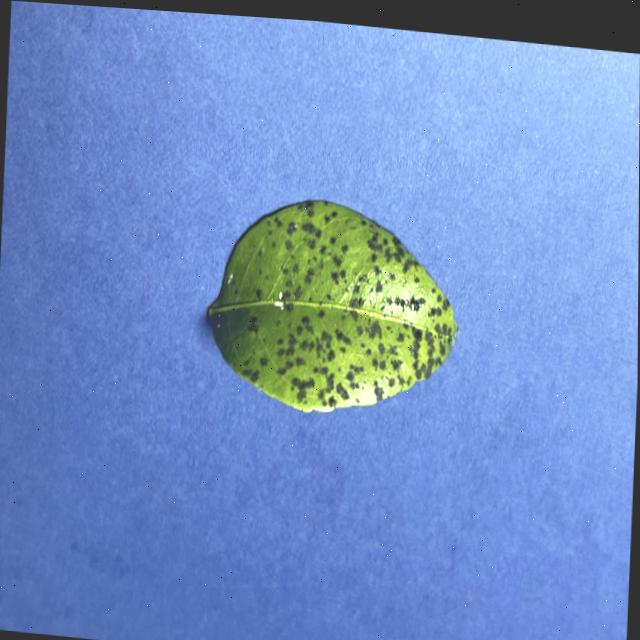sooty_mold: (208, 200, 457, 411)
